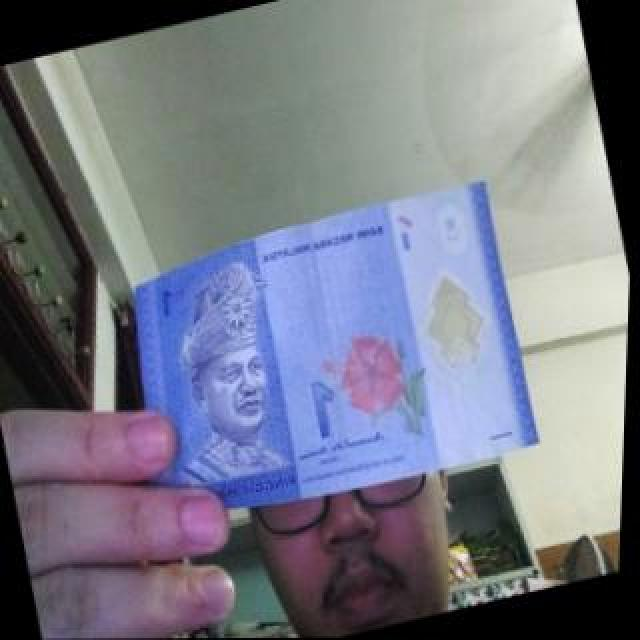1 Ringgit: (94, 174, 553, 539)
